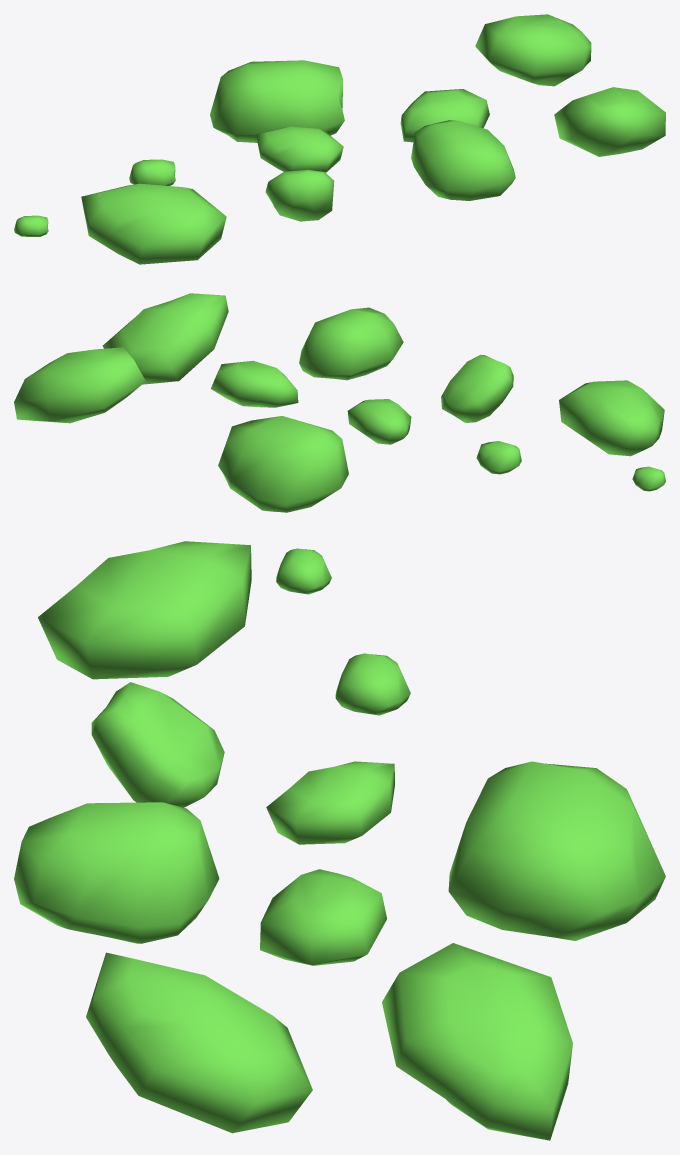
File: Stones.fbx
3 renders of one model, top to bottom at view 1: azimuth 30°, elevation 25°; view 2: azimuth 150°, elevation 25°; view 3: azimuth 270°, elevation 25°, orthographic. The views are drawn at different scales.
Parts seen in each view (by area): view 1: Stones_LOD0; view 2: Stones_LOD0; view 3: Stones_LOD0.
Boxes of the visible parts, left/top/right/bottom form: Stones_LOD0: left=14, top=14, right=665, bottom=264; Stones_LOD0: left=14, top=293, right=665, bottom=512; Stones_LOD0: left=14, top=541, right=665, bottom=1140.
Size of what is drawn, in the model's own units: 635 by 90.92 by 329.
